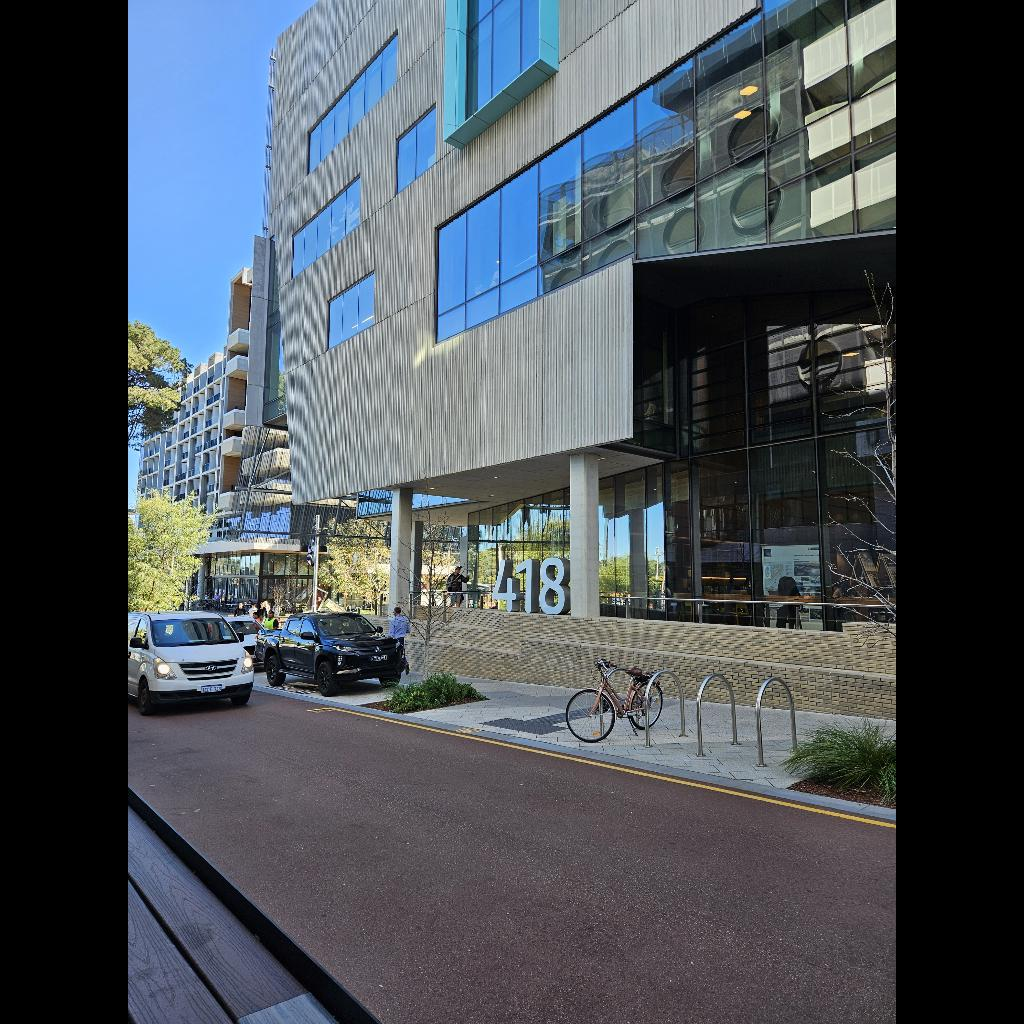BuildingCodes: (491, 557, 571, 615)
